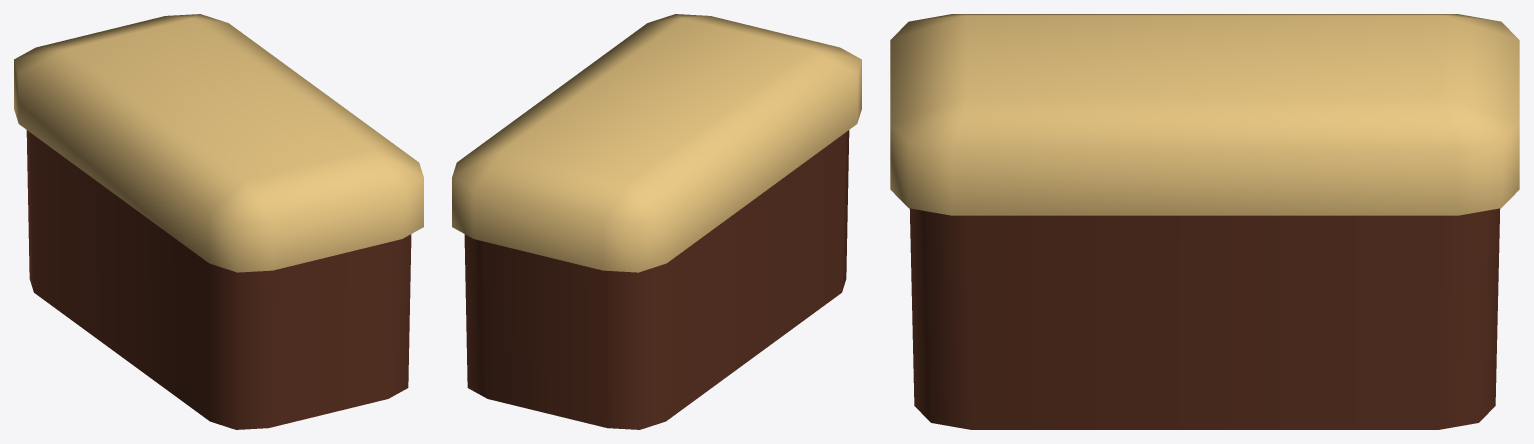
The model's file is seat.fbx.
3 renders of one model, left to right at view 1: azimuth 30°, elevation 25°; view 2: azimuth 150°, elevation 25°; view 3: azimuth 270°, elevation 25°, orthographic. The views are drawn at different scales.
Visible parts, largest first — view 1: seat; view 2: seat; view 3: seat.
Part boxes in pixels (<box>): seat: <box>14,14,423,429</box>; seat: <box>452,14,861,429</box>; seat: <box>890,14,1519,429</box>.
Bounding box in the file's own units: 1.12 × 1.2 × 2.2.
